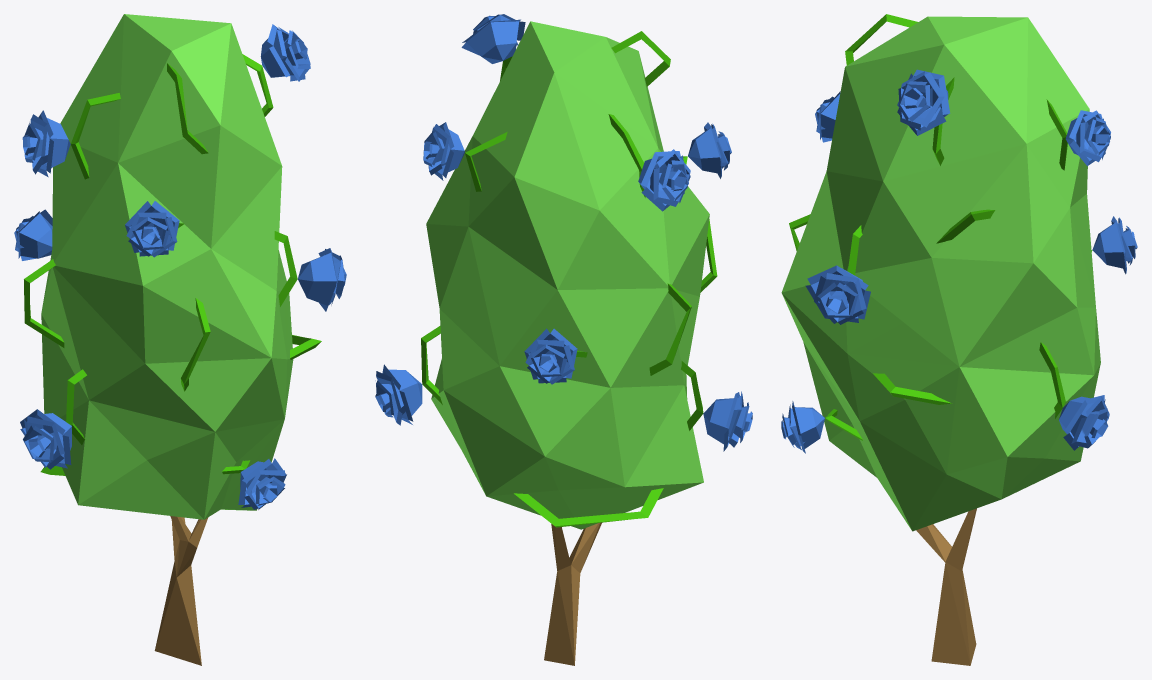
File: Arbusto02.fbx
The picture shows the model from 3 angles, left to right: view 1: azimuth 30°, elevation 25°; view 2: azimuth 150°, elevation 25°; view 3: azimuth 270°, elevation 25°; orthographic projection.
Visible parts, largest first — view 1: Cube.070; view 2: Cube.070; view 3: Cube.070.
Boxes of the visible parts, x1,y1,x2,y2 form: Cube.070: (14,14,346,665); Cube.070: (375,14,752,665); Cube.070: (781,14,1137,665).
Bounding box in the file's own units: 105 × 208 × 106.
